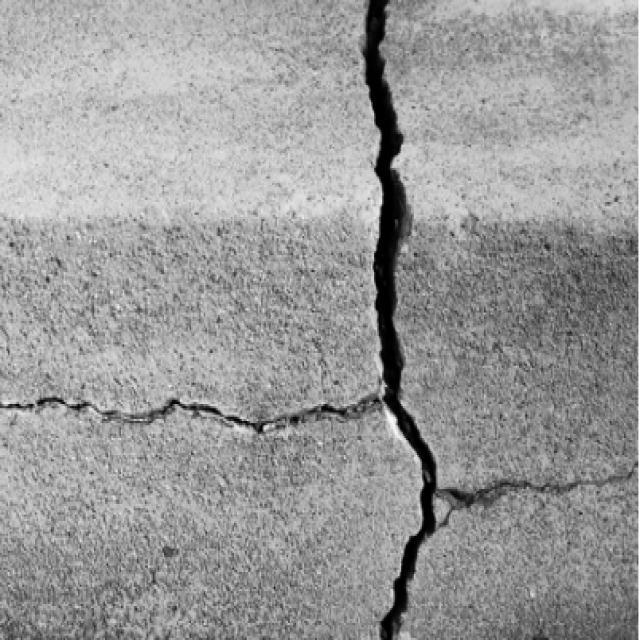branched cracks: (0, 0, 634, 639)
